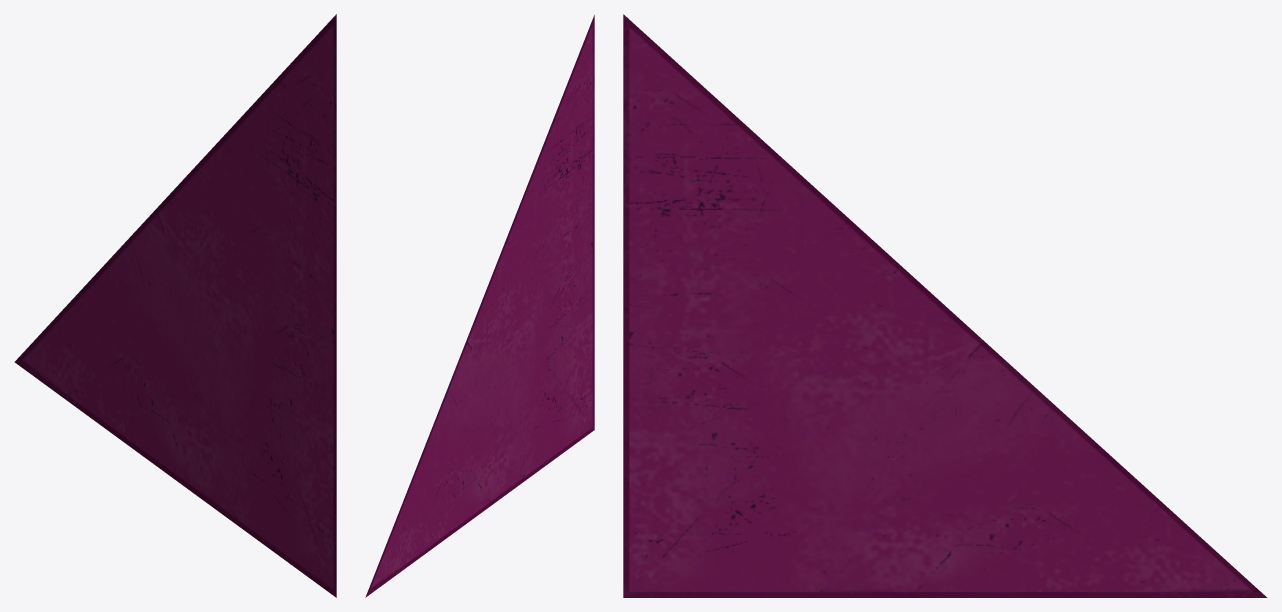
File: Face_LeftTriangle_Small.fbx
3 views of the same model, side by side, from view 1: azimuth 30°, elevation 25°; view 2: azimuth 150°, elevation 25°; view 3: azimuth 270°, elevation 25° (orthographic). The views are drawn at different scales.
Visible parts, largest first — view 1: CornerTriangleLeftPlate; view 2: CornerTriangleLeftPlate; view 3: CornerTriangleLeftPlate.
Part boxes in pixels (box(x1,y1,x2,y2)): CornerTriangleLeftPlate: box(14, 14, 336, 597); CornerTriangleLeftPlate: box(365, 15, 594, 597); CornerTriangleLeftPlate: box(623, 14, 1267, 597).
Bounding box in the file's own units: 5.76e-07 × 2.5 × 2.5.
